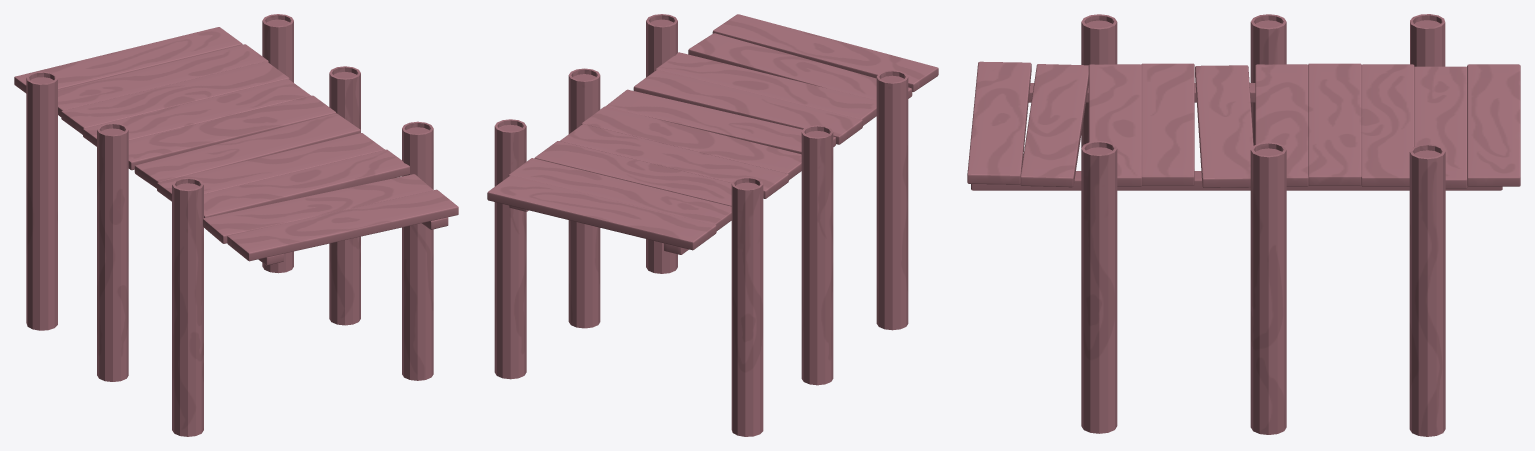
Rendered from WoodenDockModel_Fish_01.fbx.
3 views of the same model, side by side, from view 1: azimuth 30°, elevation 25°; view 2: azimuth 150°, elevation 25°; view 3: azimuth 270°, elevation 25° (orthographic). The views are drawn at different scales.
Visible parts, largest first — view 1: polySurface34; view 2: polySurface34; view 3: polySurface34.
Part boxes in pixels (bbox=[...]): polySurface34: bbox=[14, 14, 458, 436]; polySurface34: bbox=[487, 14, 938, 436]; polySurface34: bbox=[967, 14, 1520, 436].
Size of the model in its own units: 362 by 323 by 582.
Materials: 1 (1 with a texture image).
